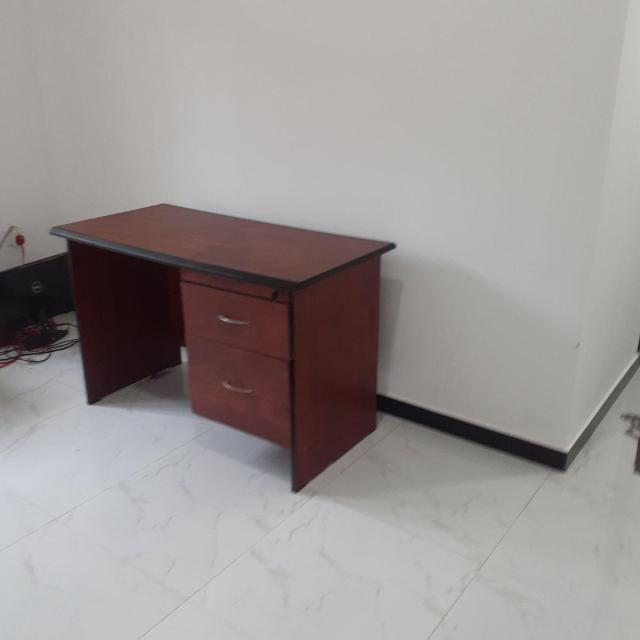table: (36, 189, 429, 519)
